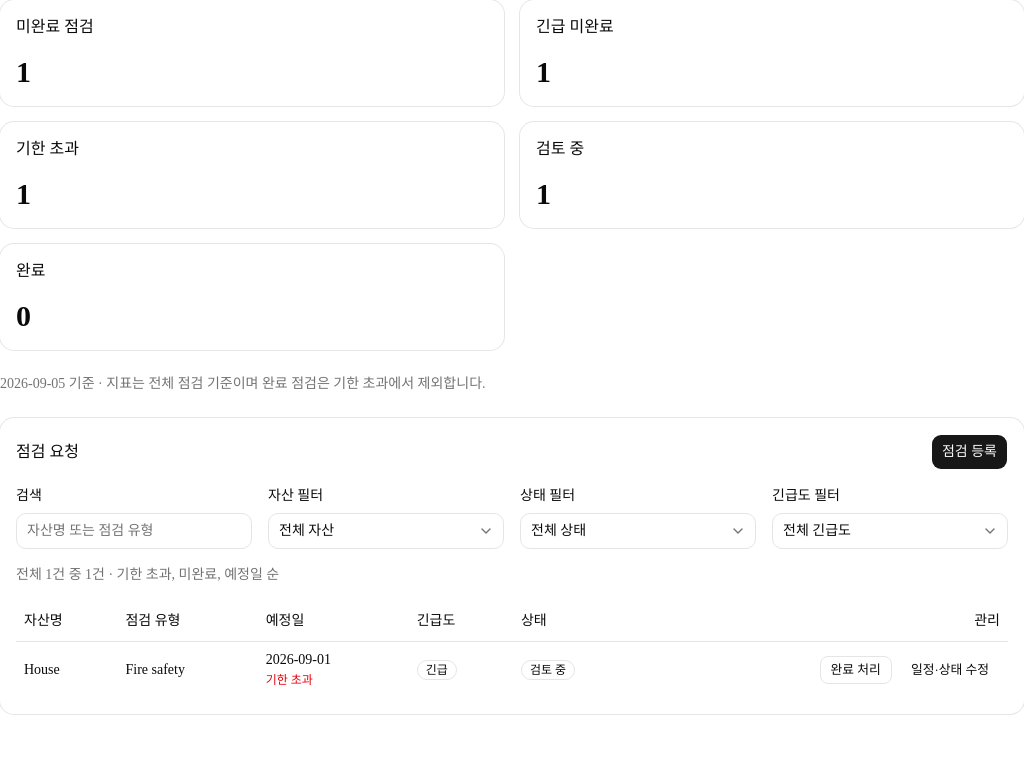
keeps completion evidence in the dialog when saving fails
Step 1. Click the button with aria-label "Fire safety 완료 처리" → (856,670), box [820,656,892,684]
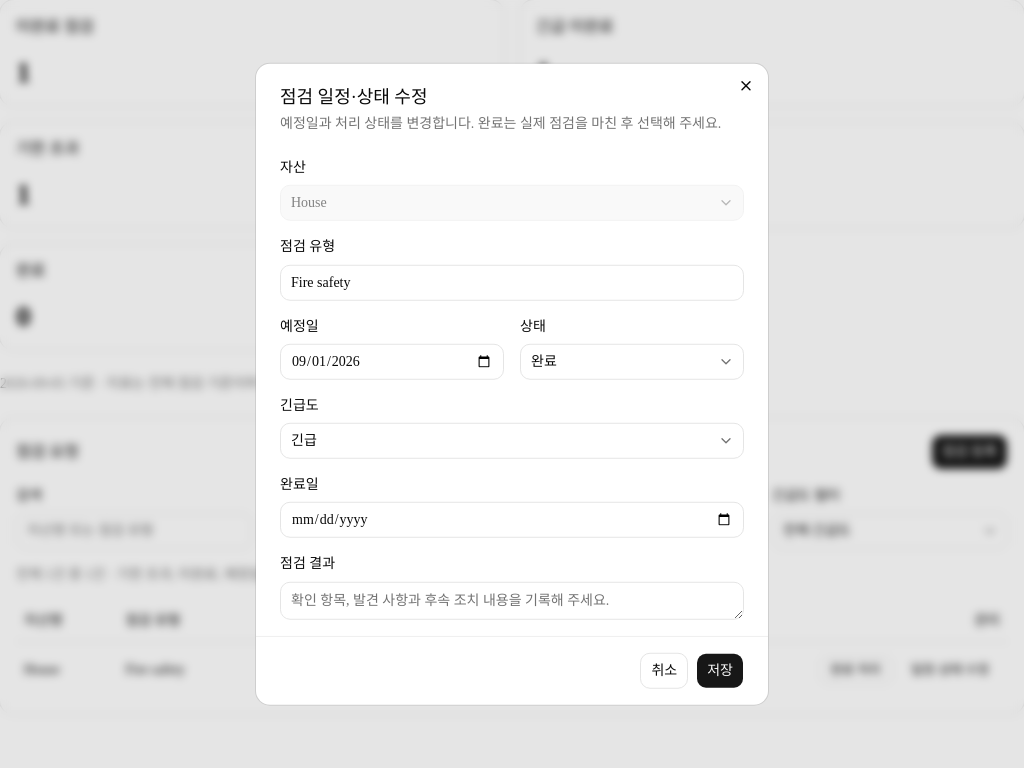
Step 2. Type "2026-09-04" into the date field labelled "완료일" → (512,520), box [280,502,744,538]
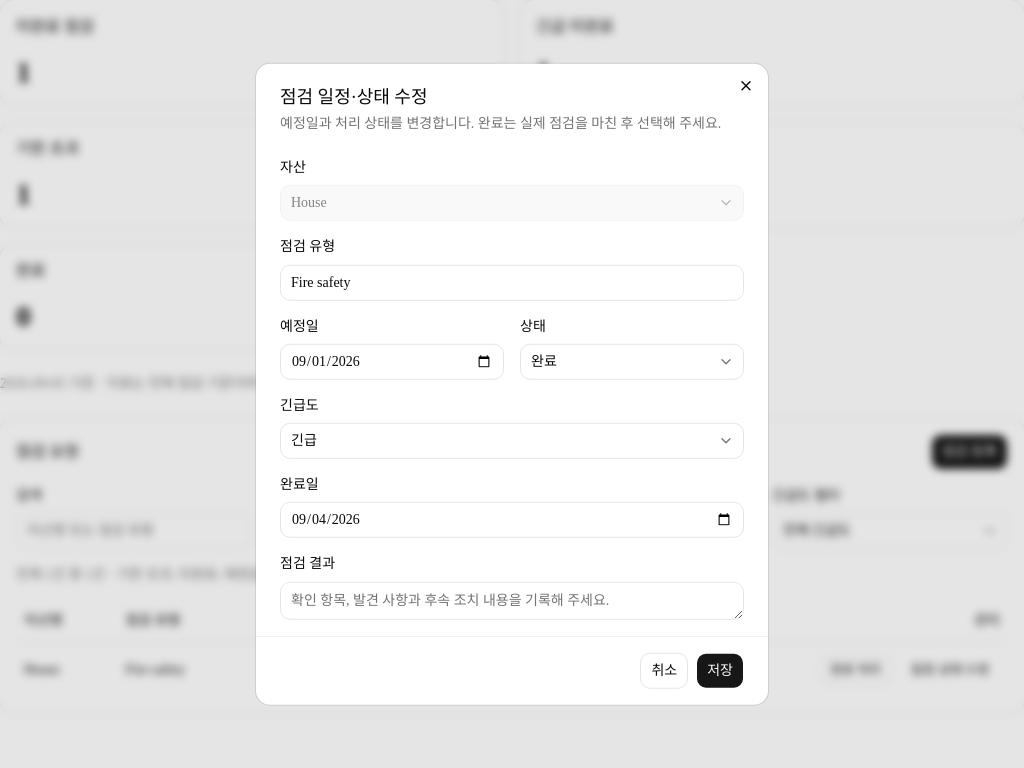
Step 3. Type "Safety verified" into the text box labelled "점검 결과" → (512,600), box [280,581,744,619]
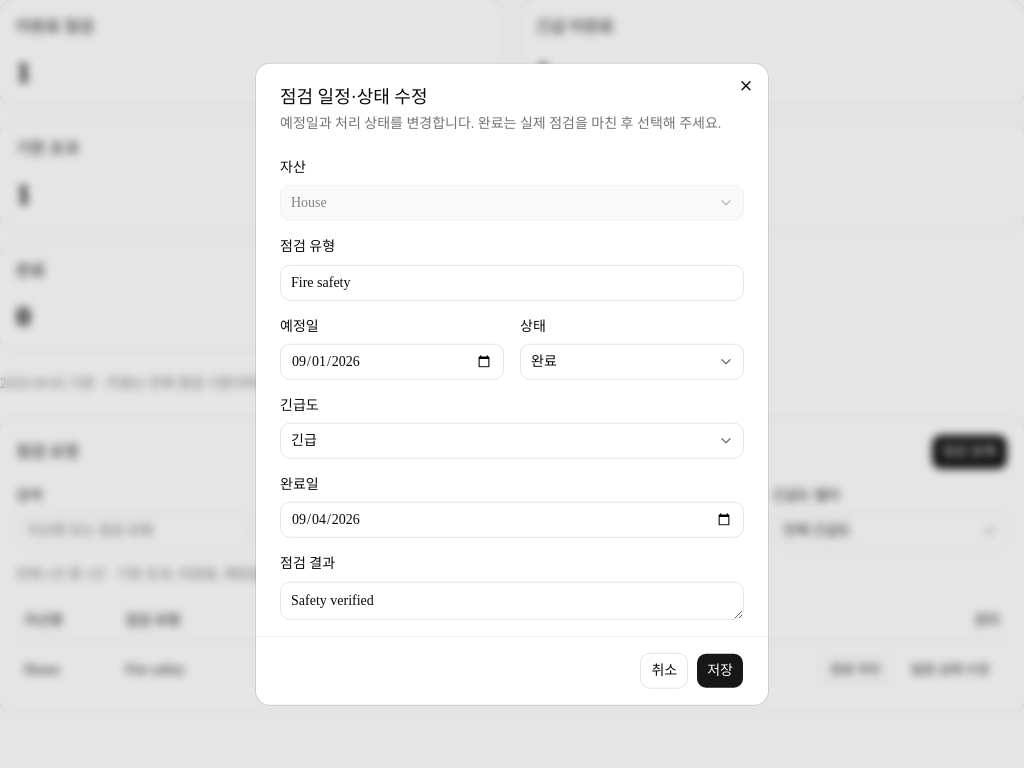
Step 4. Click the button "저장" → (720,670), box [696,652,744,688]
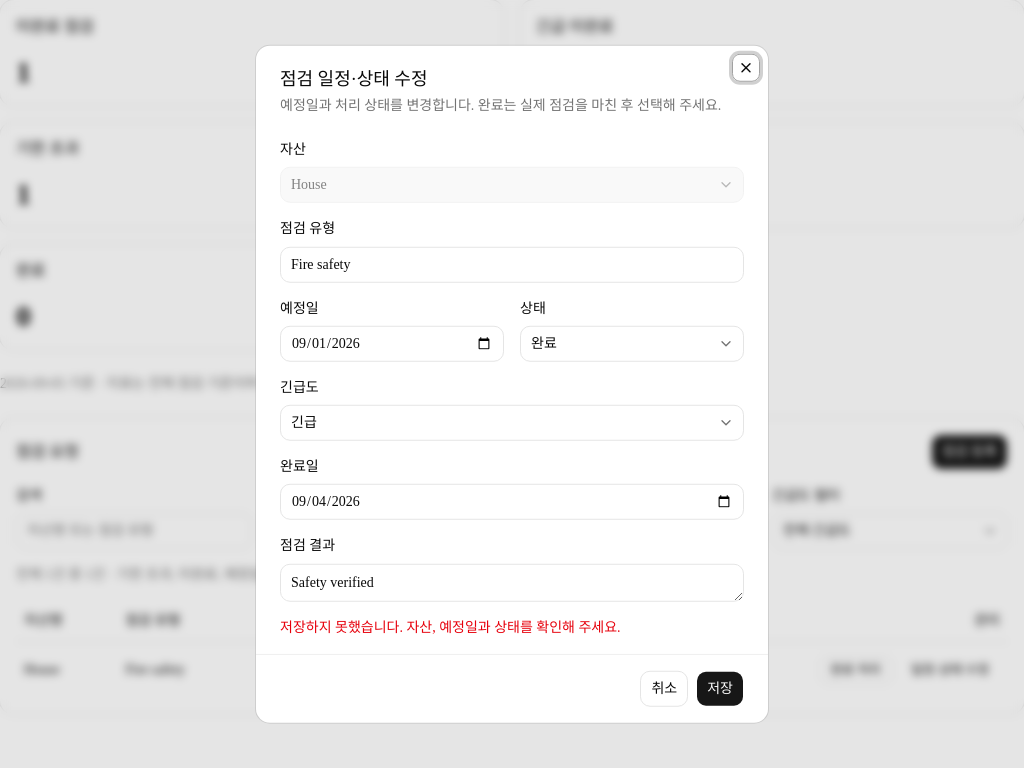
Expected: the button "저장" is enabled, [696,670,744,706]
Expected: the message "저장하지 못했습니다. 자산, 예정일과 상태를 확인해 주세요." is shown, [280,619,621,634]
